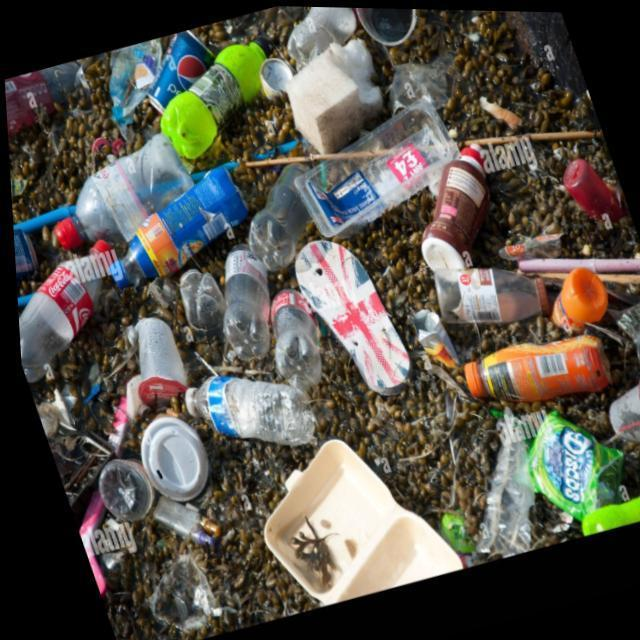Disposable: (257, 437, 454, 603), (293, 96, 452, 235), (135, 415, 203, 501), (132, 316, 181, 403), (604, 370, 640, 440), (357, 6, 416, 44), (632, 329, 640, 368)
Plastic: (292, 238, 407, 393), (146, 494, 214, 545)
Plastic_Bag: (108, 38, 161, 133), (388, 60, 447, 111), (433, 511, 468, 552)
Plastic_Straw: (10, 204, 72, 233), (188, 170, 203, 182), (219, 159, 237, 169)
Plastic_bottle: (106, 165, 245, 288), (52, 132, 190, 249), (15, 239, 113, 382), (159, 35, 269, 158), (459, 332, 607, 399), (179, 374, 310, 444), (418, 141, 486, 269), (468, 437, 528, 554), (245, 161, 308, 270), (431, 265, 545, 321), (219, 243, 266, 358), (4, 60, 78, 133), (267, 288, 317, 390), (286, 5, 359, 68), (560, 155, 620, 218), (547, 264, 604, 330), (92, 457, 148, 520), (175, 268, 221, 334), (575, 492, 640, 533)
Plastic_wraper: (522, 408, 617, 517), (42, 427, 107, 504), (495, 230, 559, 258), (72, 489, 99, 538), (76, 540, 99, 595), (103, 395, 124, 455), (611, 299, 640, 337)
Thermocol: (284, 37, 382, 151)
can: (147, 29, 213, 112), (258, 56, 294, 96), (11, 228, 34, 278)
